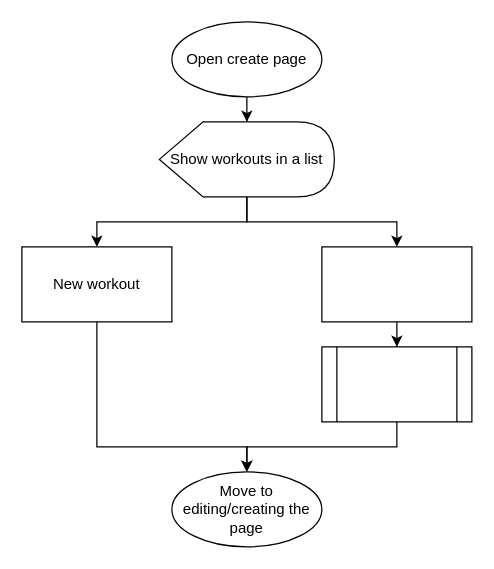
Some shapes in this 494 by 569 pixel diagram are drawn without their labels. The box of each missing label's shape, as (x1, y1, x2, y2) in pixels:
Edit workout (icon in each workout): (321, 246, 472, 322)
Open the selected workout to be edited: (321, 346, 472, 422)
